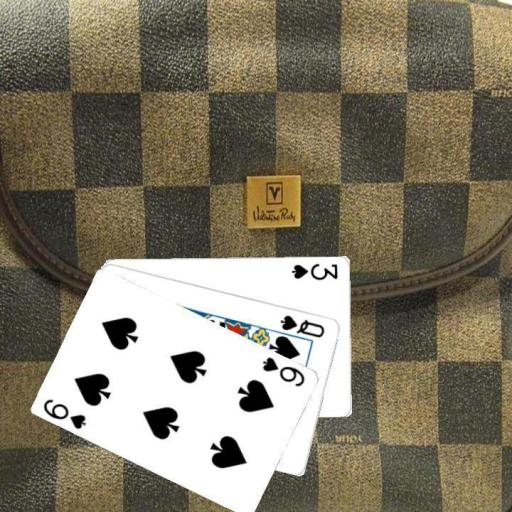card-corner: (41, 395, 88, 431), (260, 354, 307, 388), (278, 312, 326, 339), (289, 259, 340, 281)
